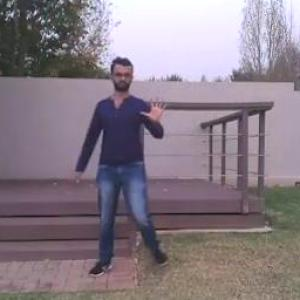follow_hand: (138, 91, 172, 128)
